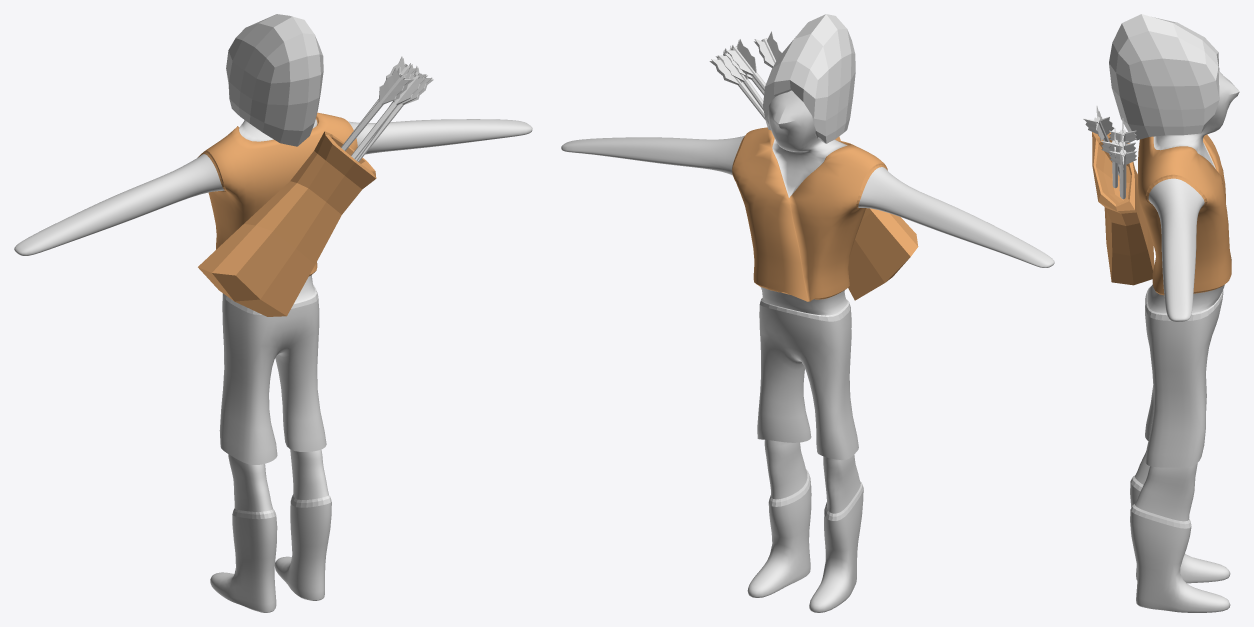
The model's file is Archer.fbx.
The picture shows the model from 3 angles, left to right: view 1: azimuth 30°, elevation 25°; view 2: azimuth 150°, elevation 25°; view 3: azimuth 270°, elevation 25°; orthographic projection. The views are drawn at different scales.
Visible parts, largest first — view 1: Archer, Arrows; view 2: Archer, Arrows; view 3: Archer, Arrows.
Boxes of the visible parts, x1,y1,x2,y2 form: Archer: [14, 14, 532, 612]; Arrows: [341, 56, 433, 161]; Archer: [561, 14, 1054, 612]; Arrows: [709, 31, 781, 119]; Archer: [1092, 14, 1239, 612]; Arrows: [1083, 106, 1136, 199].
Bounding box in the file's own units: 174 × 191 × 46.82.
